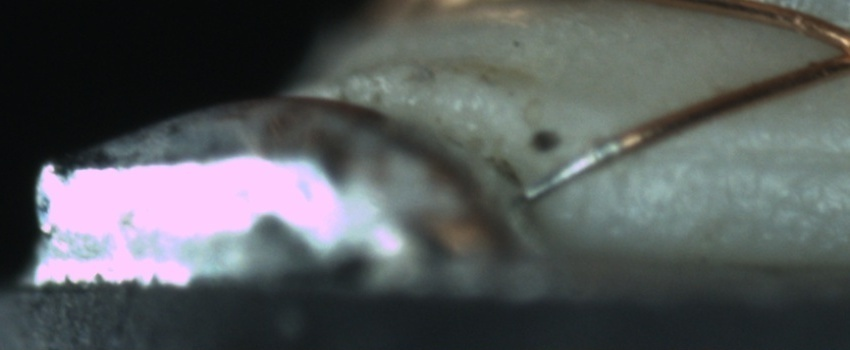CL: (805, 15, 850, 81)
DL: (636, 119, 846, 192)
TS: (522, 137, 628, 202)
